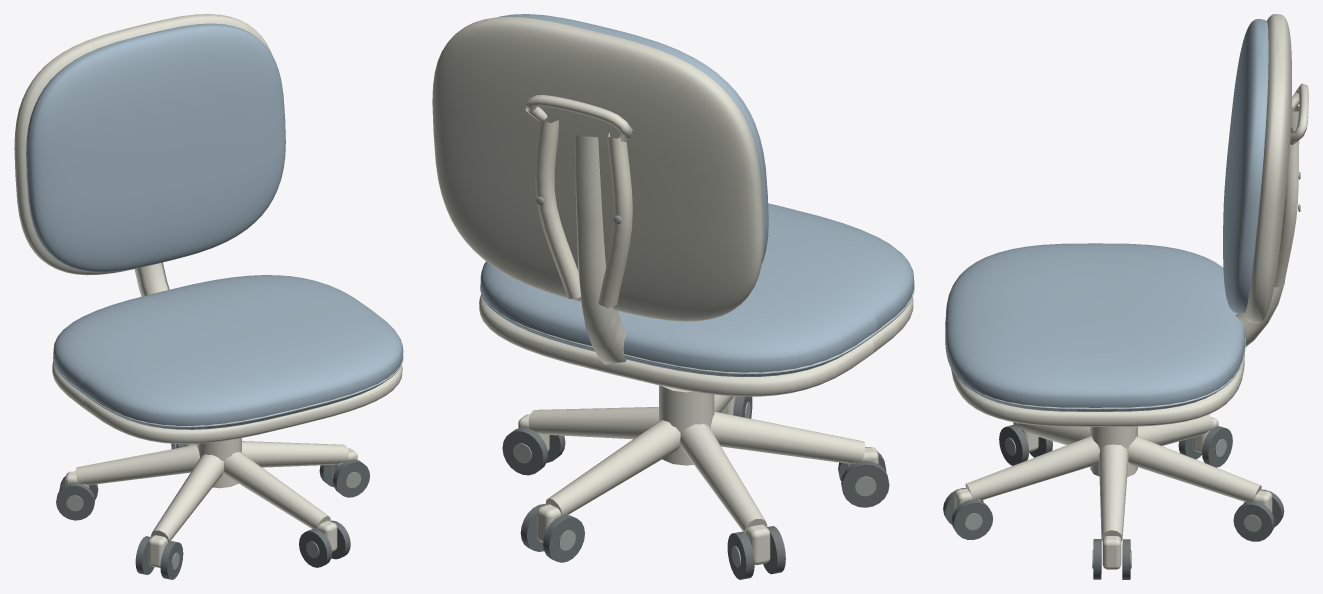
File: family-study-chair-v1.glb
The picture shows the model from 3 angles, left to right: view 1: azimuth 30°, elevation 25°; view 2: azimuth 150°, elevation 25°; view 3: azimuth 270°, elevation 25°; orthographic projection. The views are drawn at different scales.
Visible parts, largest first — view 1: Foam back pad, Blue woven saddle, Tapered star spoke (×4), Curved back shell, Ivory seat pan, Soft caster wheel (×4), Soft welt, Column shroud, Swept rear spine; view 2: Curved back shell, Blue woven saddle, Tapered star spoke (×4), Ivory seat pan, Forked back support (×2), Soft caster wheel (×6), Swept rear spine, Foam back pad, Column shroud, Carry handle, Soft welt, Caster fork; view 3: Blue woven saddle, Tapered star spoke (×5), Foam back pad, Curved back shell, Ivory seat pan, Soft caster wheel (×4), Forked back support, Column shroud, Soft welt, Swept rear spine, Carry handle, Caster fork.
Part boxes in pixels (left/top/right/bottom): Foam back pad: left=26, top=23, right=285, bottom=272; Blue woven saddle: left=53, top=275, right=403, bottom=429; Tapered star spoke (×4): left=76, top=441, right=348, bottom=542; Curved back shell: left=14, top=14, right=271, bottom=275; Ivory seat pan: left=52, top=361, right=402, bottom=443; Soft caster wheel (×4): left=56, top=459, right=369, bottom=579; Soft welt: left=53, top=354, right=403, bottom=427; Column shroud: left=197, top=438, right=241, bottom=488; Swept rear spine: left=134, top=262, right=169, bottom=296; Curved back shell: left=432, top=16, right=763, bottom=321; Blue woven saddle: left=480, top=203, right=914, bottom=377; Tapered star spoke (×4): left=528, top=407, right=864, bottom=533; Ivory seat pan: left=479, top=294, right=913, bottom=396; Forked back support (×2): left=535, top=119, right=632, bottom=308; Soft caster wheel (×6): left=502, top=427, right=889, bottom=579; Swept rear spine: left=575, top=133, right=626, bottom=364; Foam back pad: left=498, top=14, right=768, bottom=262; Column shroud: left=659, top=385, right=714, bottom=465; Carry handle: left=525, top=95, right=632, bottom=142; Soft welt: left=480, top=284, right=914, bottom=374; Caster fork: left=743, top=524, right=770, bottom=565; Blue woven saddle: left=945, top=243, right=1245, bottom=411; Tapered star spoke (×5): left=965, top=414, right=1261, bottom=541; Foam back pad: left=1223, top=19, right=1268, bottom=313; Curved back shell: left=1244, top=14, right=1291, bottom=323; Ivory seat pan: left=951, top=354, right=1244, bottom=426; Soft caster wheel (×4): left=951, top=425, right=1274, bottom=541; Forked back support: left=1274, top=133, right=1299, bottom=287; Column shroud: left=1090, top=426, right=1137, bottom=476; Soft welt: left=945, top=317, right=1245, bottom=409; Swept rear spine: left=1235, top=127, right=1294, bottom=346; Carry handle: left=1290, top=83, right=1308, bottom=145; Caster fork: left=1102, top=536, right=1121, bottom=569.
Bounding box in the file's own units: 0.5406 × 0.7781 × 0.5529.
